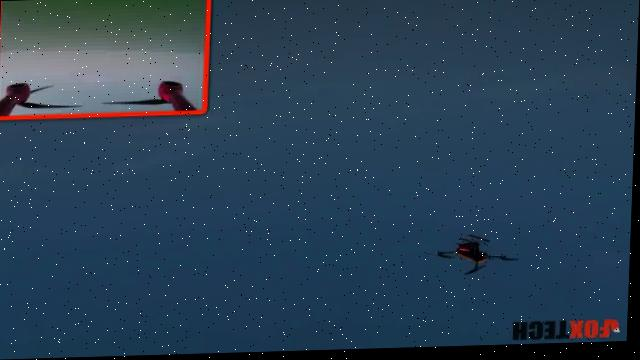drone: (423, 223, 520, 282)
